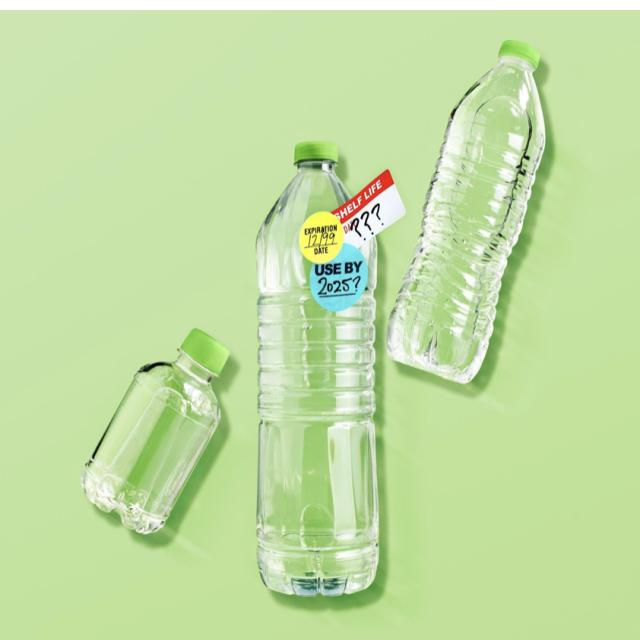recyclable: (241, 118, 403, 623), (366, 20, 573, 406), (75, 294, 236, 554)
